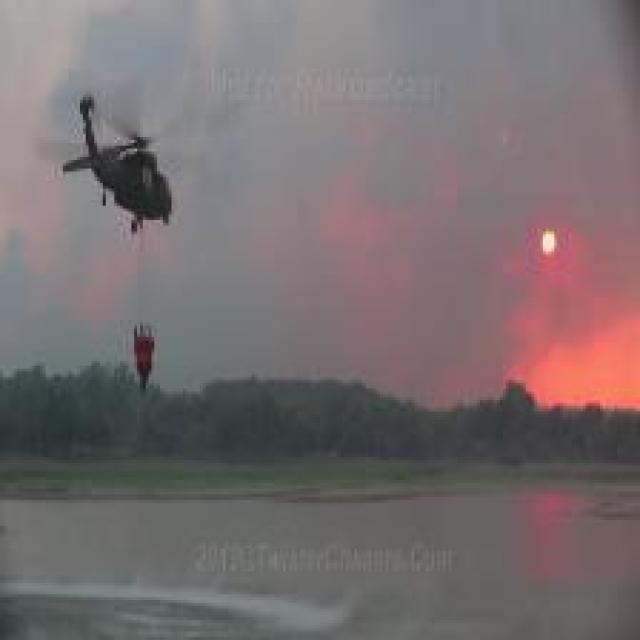other: (500, 200, 634, 408)
